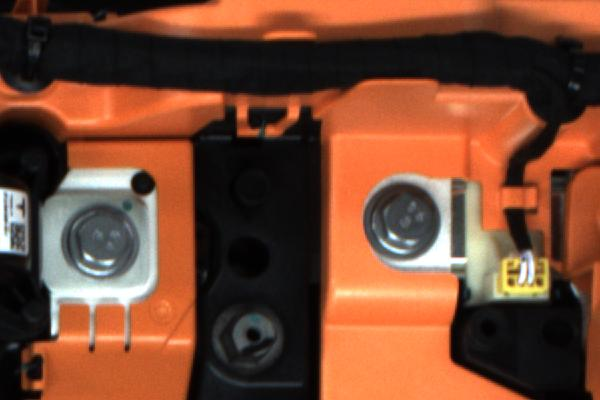nut_b: (355, 175, 452, 273), (58, 193, 153, 283)
